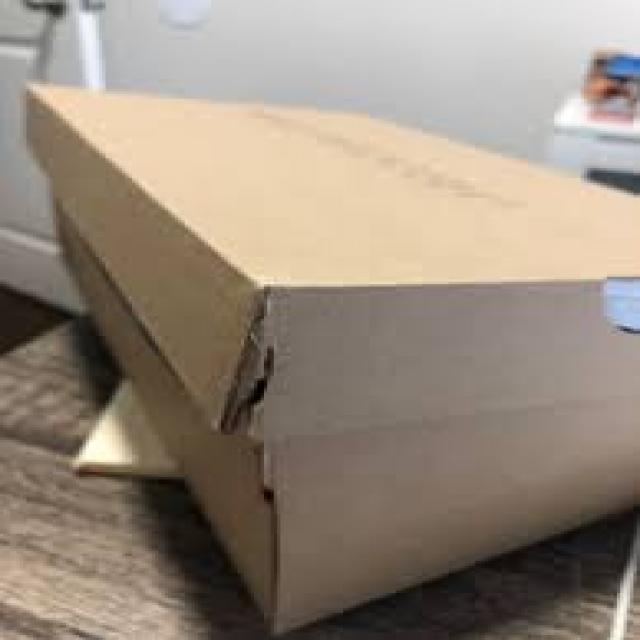tear: (234, 280, 343, 601)
